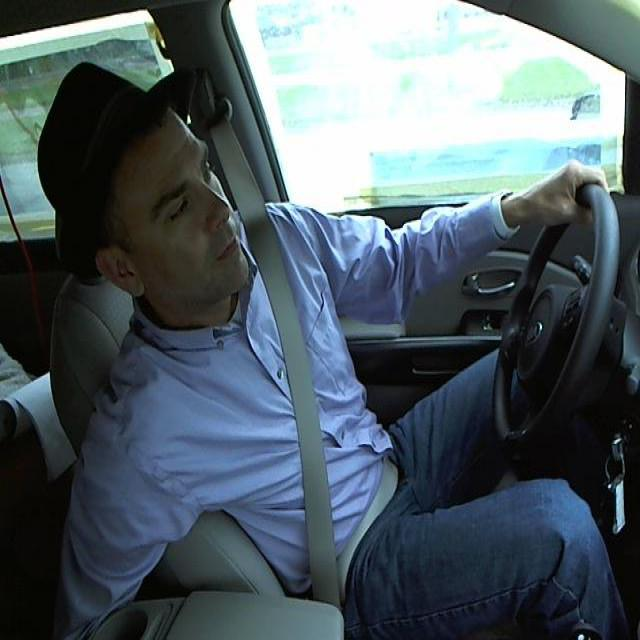seatbelt: (248, 252, 387, 577)
